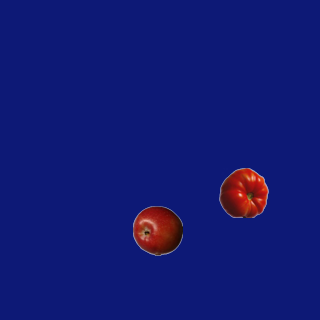Apple Braeburn: (132, 205, 182, 255)
Tomato 3: (218, 167, 268, 217)
